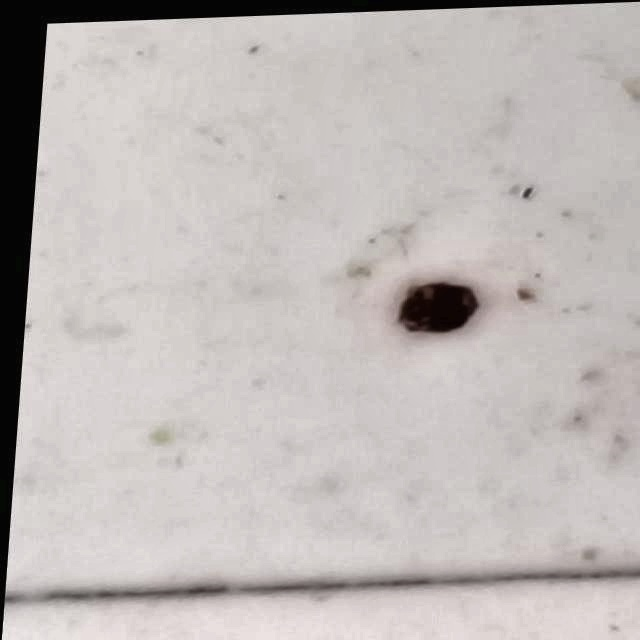varroa: (389, 277, 476, 331)
